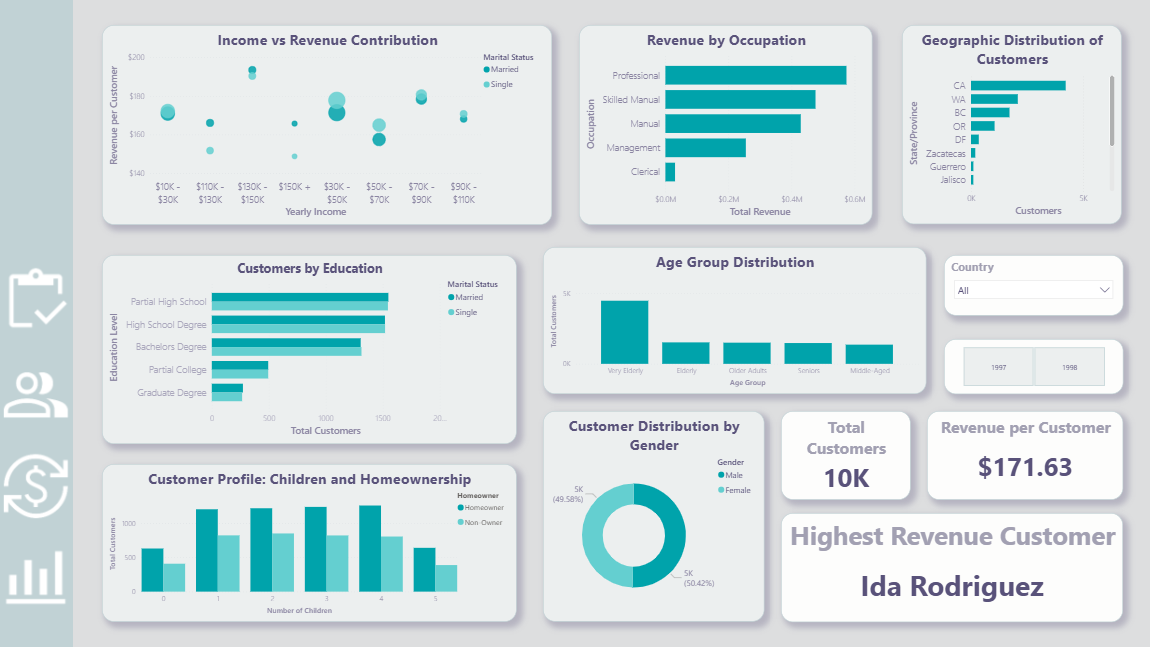

What the dashboard file says about the page in this screenshot:
{"tool":"powerbi","page":{"name":"Customer Analytics","canvas":[1920,1080],"ordinal":2},"visuals":[{"type":"card","title":"Total Customers","fields":{"Values":["Measure Table.Total Customers"]},"box":[1304.6,687.4,215.9,147.6],"z":0},{"type":"card","title":"Highest Revenue Customer","fields":{"Values":["Min(Customers.Full Name)"]},"box":[1304.6,856.5,570.4,181.7],"z":1000},{"type":"card","title":"Revenue per Customer","fields":{"Values":["Measure Table.Revenue per Customer"]},"box":[1547.5,687.4,327.5,147.6],"z":2000},{"type":"donutChart","title":"Customer Distribution by Gender","fields":{"Category":["Customers.gender"],"Y":["Measure Table.Total Customers"]},"box":[908.7,687.4,368.9,350.9],"z":3000},{"type":"clusteredBarChart","title":"Customers by Education","fields":{"Category":["Customers.education"],"Series":["Customers.marital_status"],"Y":["Measure Table.Total Customers"]},"box":[172.7,426.5,691,314.9],"z":4000},{"type":"clusteredBarChart","title":"Revenue by Occupation","fields":{"Category":["Customers.occupation"],"Y":["Measure Table.Total Revenue"]},"box":[968.1,43.2,489.4,332.9],"z":5000},{"type":"clusteredColumnChart","title":"Age Group Distribution","fields":{"Category":["Customers.Age Group"],"Y":["Measure Table.Total Customers"]},"box":[908.7,413.9,638.8,244.7],"z":6000},{"type":"scatterChart","title":"Income vs Revenue Contribution ","fields":{"X":["Customers.yearly_income"],"Y":["Measure Table.Revenue per Customer"],"Size":["Measure Table.Total Customers"],"Series":["Customers.marital_status"]},"box":[172.7,43.2,750.4,332.9],"z":7000},{"type":"clusteredColumnChart","title":"Customer Profile: Children and Homeownership","fields":{"Category":["Customers.total_children"],"Y":["Measure Table.Total Customers"],"Series":["Customers.homeowner"]},"box":[172.7,775.6,691,262.7],"z":8000},{"type":"shape","box":[0,0,125,1080],"z":9000,"group":"g1"},{"type":"slicer","title":"Year","fields":{"Values":["Calendar.Year"]},"box":[1576.3,566.8,298.7,91.8],"z":9000},{"type":"slicer","title":"Country","fields":{"Values":["Stores.store_country"]},"box":[1576.3,426.5,298.7,100.8],"z":10000},{"type":"clusteredBarChart","title":"Geographic Distribution of Customers","fields":{"Category":["Customers.customer_state_province"],"Y":["Measure Table.Total Customers"]},"box":[1507.3,43.8,366.3,331.8],"z":11000},{"type":"group","id":"g1","title":"Group 1","box":[0,0,126,1080],"z":12000},{"type":"actionButton","box":[0,902,126,126],"z":12000,"group":"g1"},{"type":"actionButton","box":[0,750,126,124],"z":13000,"group":"g1"},{"type":"actionButton","box":[0,596,126,124],"z":14000,"group":"g1"},{"type":"actionButton","box":[0,440,126,126],"z":15000,"group":"g1"}]}

Visuals, with their boxes on the page's 1920x1080 design canvas (x1, y1, x2, y2). These are canvas units, not pixel positions in the 1150x647 screenshot, which may show the page scaled, cropped or inside an application window:
"Total Customers" card: left=1305, top=687, right=1520, bottom=835
"Highest Revenue Customer" card: left=1305, top=856, right=1875, bottom=1038
"Revenue per Customer" card: left=1548, top=687, right=1875, bottom=835
"Customer Distribution by Gender" donutChart: left=909, top=687, right=1278, bottom=1038
"Customers by Education" clusteredBarChart: left=173, top=426, right=864, bottom=741
"Revenue by Occupation" clusteredBarChart: left=968, top=43, right=1458, bottom=376
"Age Group Distribution" clusteredColumnChart: left=909, top=414, right=1548, bottom=659
"Income vs Revenue Contribution " scatterChart: left=173, top=43, right=923, bottom=376
"Customer Profile: Children and Homeownership" clusteredColumnChart: left=173, top=776, right=864, bottom=1038
shape: left=0, top=0, right=125, bottom=1080
"Year" slicer: left=1576, top=567, right=1875, bottom=659
"Country" slicer: left=1576, top=426, right=1875, bottom=527
"Geographic Distribution of Customers" clusteredBarChart: left=1507, top=44, right=1874, bottom=376
"Group 1" group: left=0, top=0, right=126, bottom=1080
actionButton: left=0, top=902, right=126, bottom=1028
actionButton: left=0, top=750, right=126, bottom=874
actionButton: left=0, top=596, right=126, bottom=720
actionButton: left=0, top=440, right=126, bottom=566
